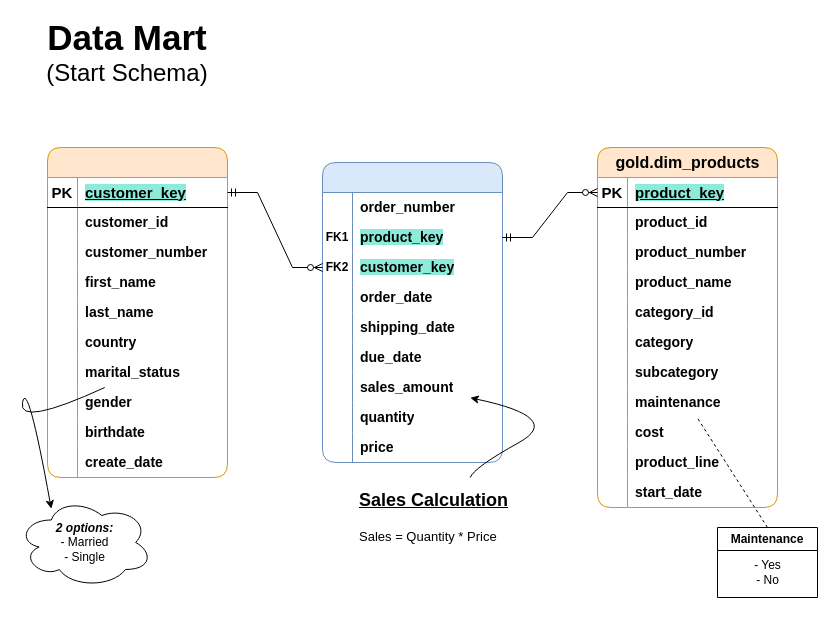
Some shapes in this 835 by 618 pixel diagram are drawn without their labels. Here are the shapes that lost their labels. From the top down, the box of each, then its label:
(46, 146, 228, 478): gold.dim_customers
(322, 162, 502, 462): gold.fact_sales
